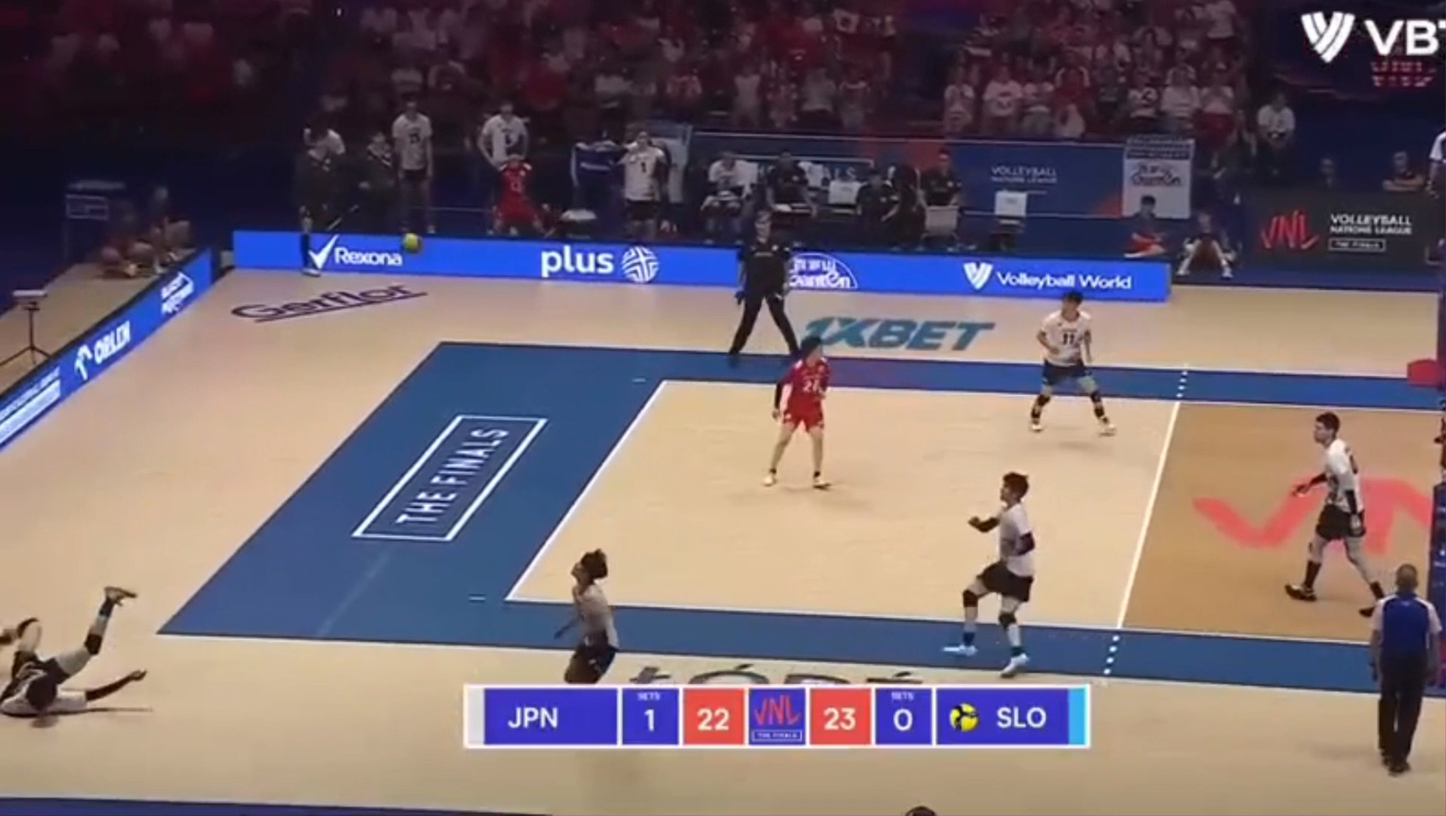ball: (403, 233, 420, 252)
player 1: (0, 586, 146, 719), (944, 471, 1036, 677), (1284, 412, 1384, 600), (1030, 290, 1114, 434), (765, 335, 830, 489), (558, 549, 619, 683)
referee: (1370, 564, 1441, 774), (728, 217, 799, 362)
